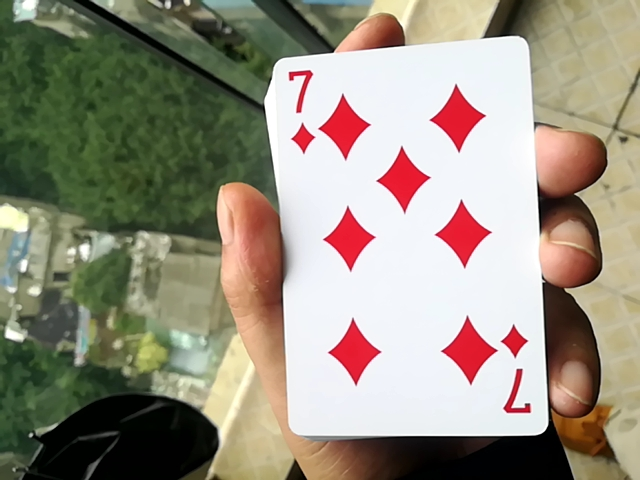fk 7: (247, 26, 548, 430)
